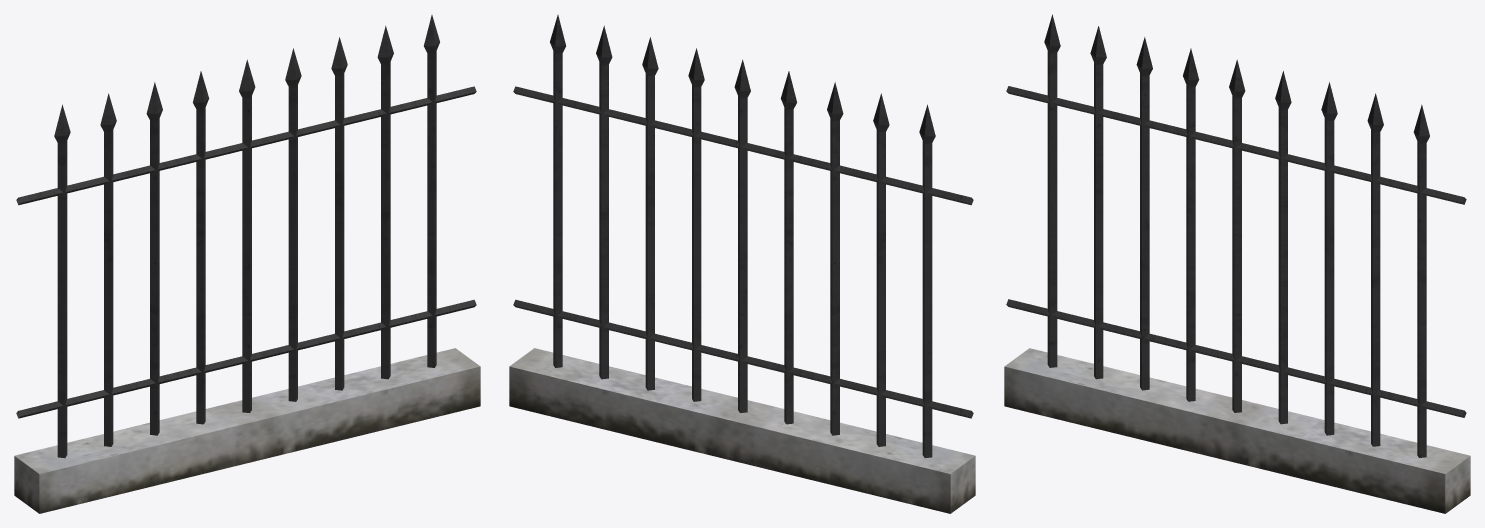
The model's file is fence3.glb.
3 renders of one model, left to right at view 1: azimuth 30°, elevation 25°; view 2: azimuth 150°, elevation 25°; view 3: azimuth 330°, elevation 25°, orthographic.
Visible parts, largest first — view 1: Fence_3; view 2: Fence_3; view 3: Fence_3.
Boxes of the visible parts, <box> form: Fence_3: <box>14,15,480,513</box>; Fence_3: <box>509,15,975,513</box>; Fence_3: <box>1004,14,1470,513</box>.
Bounding box in the file's own units: 333 × 273 × 31.82.
2 materials, 2 textured.
